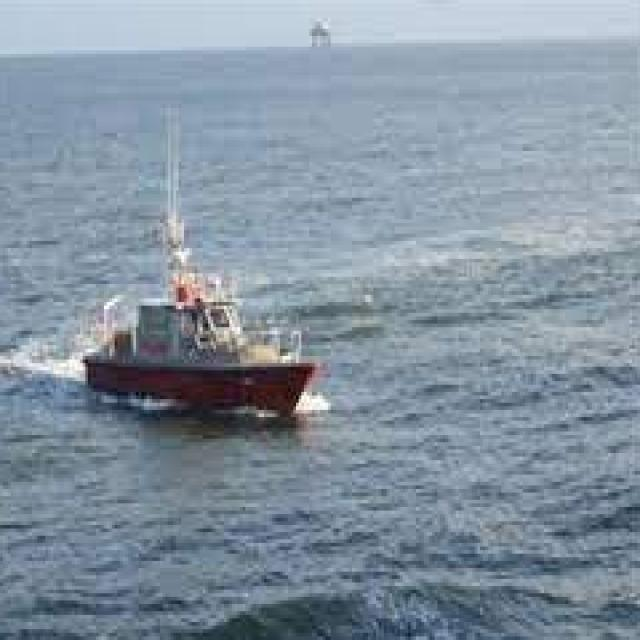houseboat: (83, 207, 327, 425)
